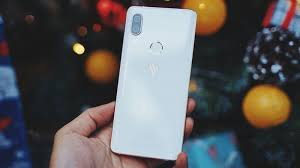vsmart: (105, 3, 199, 161)
